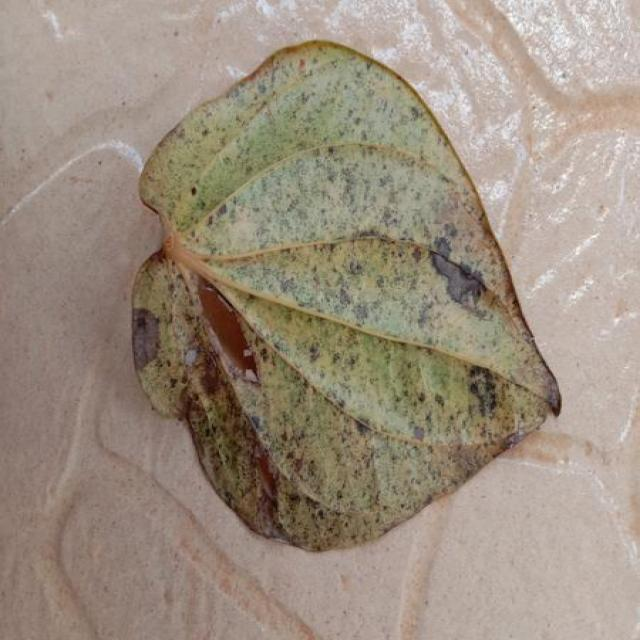defected betel: (133, 41, 560, 550)
disease in leaf: (162, 261, 502, 549)
